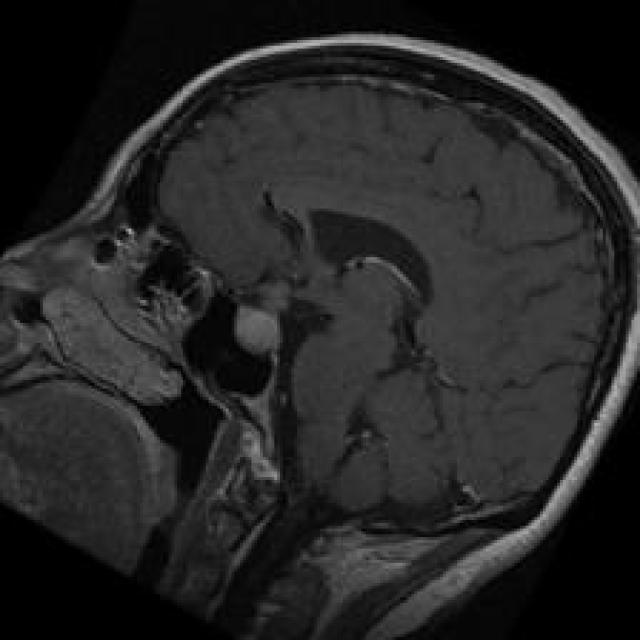pituitary_tumor: (211, 269, 298, 367)
